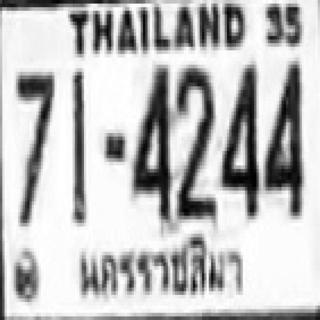N01: (70, 68, 84, 223)
N02: (176, 63, 212, 218)
N04: (263, 60, 302, 214), (130, 63, 169, 214), (220, 61, 256, 216)
N07: (14, 68, 52, 223)
P30: (75, 233, 247, 307)
